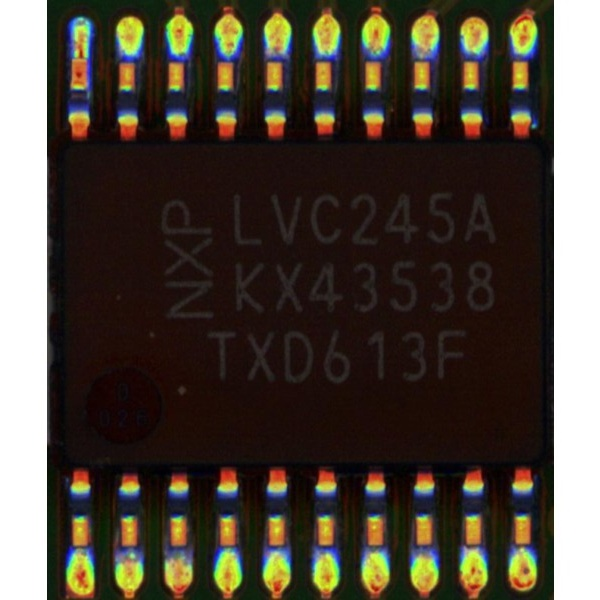Bad_podu: (74, 40, 84, 72)
